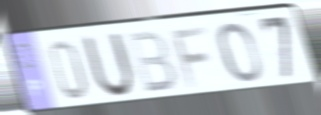0: (47, 38, 91, 103)
7: (256, 14, 296, 82)
B: (124, 28, 178, 96)
F: (169, 23, 211, 91)
O: (216, 20, 264, 85)
U: (79, 30, 137, 101)
